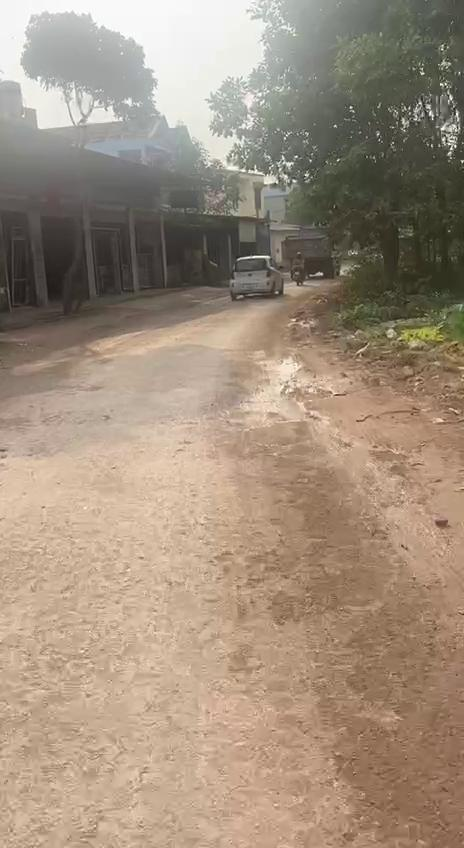pothole: (222, 406, 307, 430)
